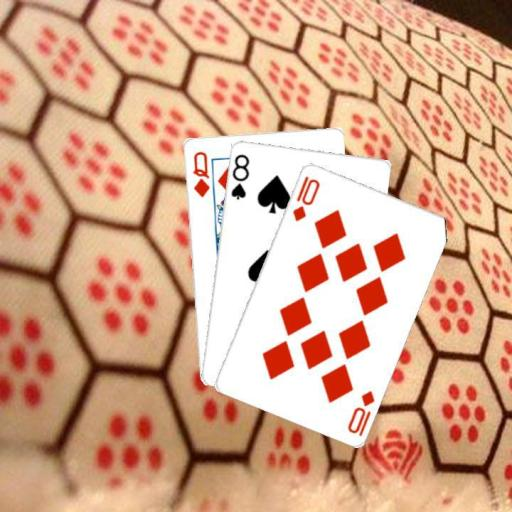10D: (289, 172, 321, 223), (344, 387, 376, 438)
8S: (228, 151, 251, 201)
QD: (189, 148, 211, 198)
